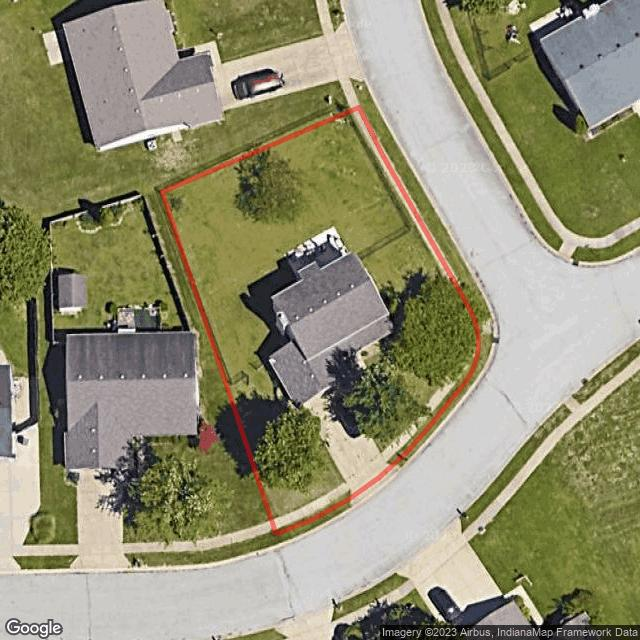Driveway: (303, 377, 389, 493)
Extra Driveway: (350, 465, 400, 507)
Extra Lawn: (361, 98, 491, 321), (398, 333, 493, 468), (274, 501, 350, 544), (277, 489, 351, 531)
Extra Sidewalk: (274, 482, 353, 529), (381, 416, 427, 462), (428, 381, 455, 414), (478, 319, 494, 335)
House: (269, 252, 392, 402)
Other: (288, 228, 346, 271), (356, 341, 381, 368)
Sidewalk: (353, 110, 450, 278)
